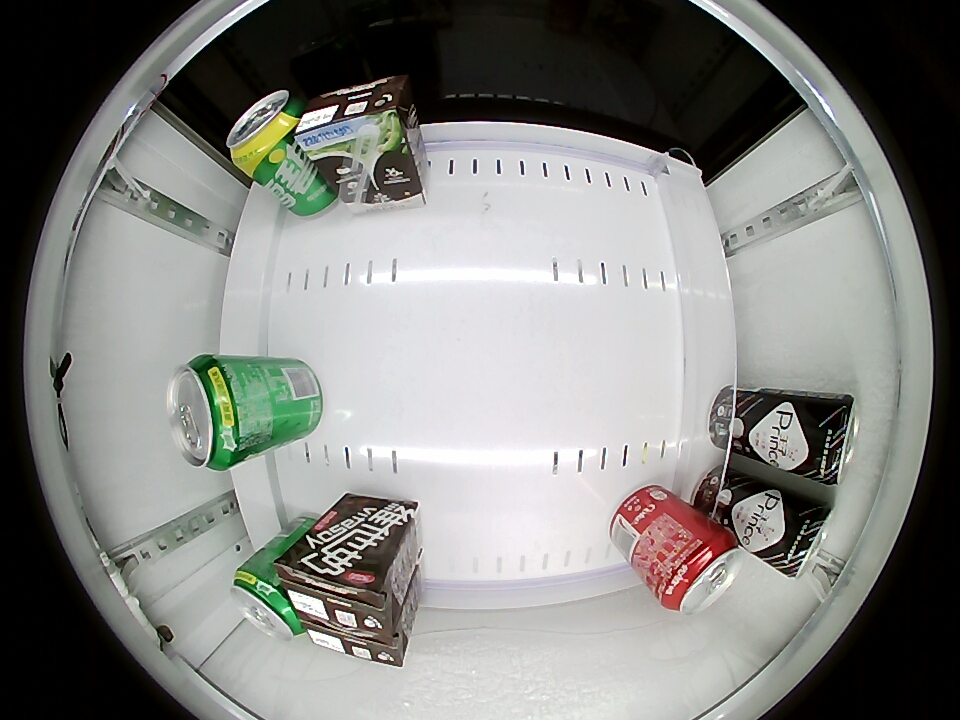kele: (656, 531, 741, 615)
qingdaowangzi-1: (802, 395, 860, 485), (774, 501, 833, 578)
weitanai2: (277, 544, 400, 637), (295, 76, 413, 158), (303, 621, 410, 667)
xuebi2: (168, 354, 254, 471), (226, 89, 304, 170), (231, 562, 304, 642)
